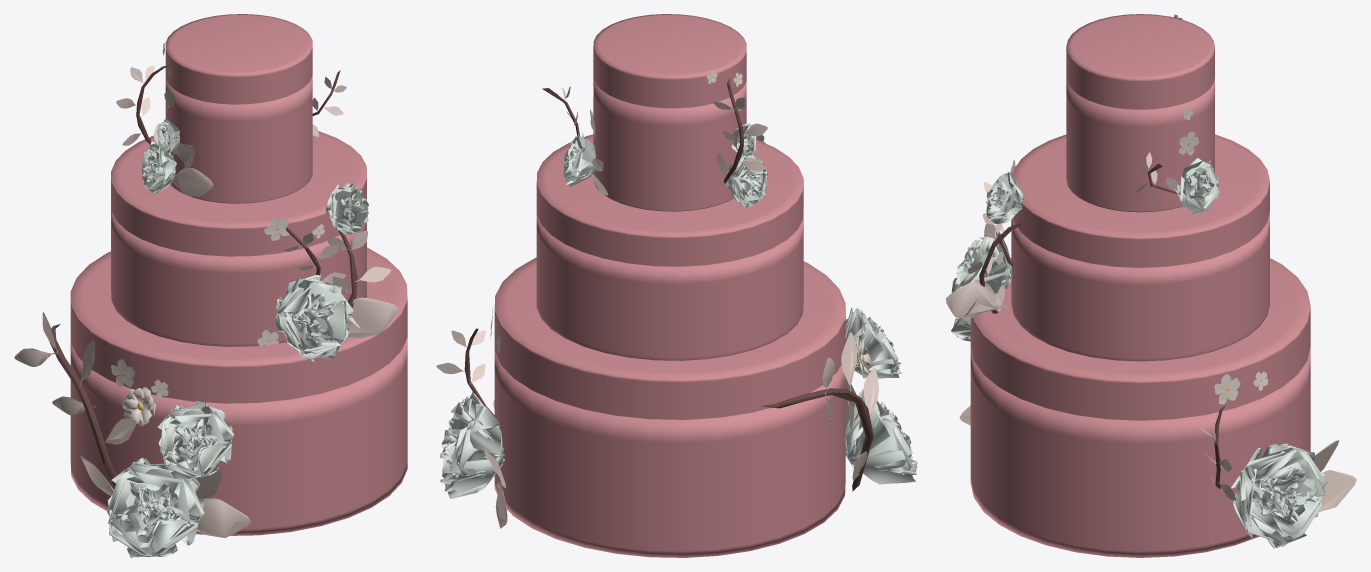
The model's file is 3-tier-blush-roses-none.glb.
The picture shows the model from 3 angles, left to right: view 1: azimuth 30°, elevation 25°; view 2: azimuth 150°, elevation 25°; view 3: azimuth 270°, elevation 25°; orthographic projection. The views are drawn at different scales.
Visible parts, largest first — view 1: Cylinder.022, Cylinder.014, Cylinder.021, grid.042, grid.044, grid.040, Plane.093, grid.043, Plane.087, Plane.091, Plane.095, grid.045 (+7 smaller); view 2: Cylinder.022, Cylinder.014, Cylinder.021, grid.029, grid.042, Plane.093, grid.040, grid.045, Plane.092, grid.047, Plane.084; view 3: Cylinder.022, Cylinder.014, Cylinder.021, grid.029, grid.044, grid.047, Plane.087, grid.043, Plane.095, Plane.082, Plane.084, Plane.078 (+1 smaller).
Boxes of the visible parts, x1,y1,x2,y2 form: Cylinder.022: [70, 247, 407, 535]; Cylinder.014: [111, 131, 366, 346]; Cylinder.021: [165, 14, 312, 203]; grid.042: [107, 457, 204, 557]; grid.044: [275, 275, 353, 362]; grid.040: [157, 400, 234, 481]; Plane.093: [14, 312, 136, 495]; grid.043: [326, 182, 368, 236]; Plane.087: [347, 297, 398, 338]; Plane.091: [197, 498, 250, 537]; Plane.095: [327, 230, 390, 328]; grid.045: [141, 141, 176, 193]; Cylinder.022: [494, 257, 845, 557]; Cylinder.014: [536, 134, 803, 360]; Cylinder.021: [593, 14, 746, 211]; grid.029: [440, 392, 504, 498]; grid.042: [845, 388, 917, 484]; Plane.093: [761, 332, 878, 491]; grid.040: [845, 308, 901, 378]; grid.045: [726, 155, 767, 208]; Plane.092: [713, 78, 767, 183]; grid.047: [563, 135, 595, 186]; Plane.084: [436, 328, 494, 416]; Cylinder.022: [970, 258, 1310, 557]; Cylinder.014: [1011, 134, 1269, 361]; Cylinder.021: [1066, 14, 1214, 212]; grid.029: [1231, 443, 1327, 548]; grid.044: [951, 232, 1011, 293]; grid.047: [1174, 158, 1219, 214]; Plane.087: [946, 279, 1010, 318]; grid.043: [986, 172, 1024, 223]; Plane.095: [965, 222, 1021, 316]; Plane.082: [1318, 470, 1356, 511]; Plane.084: [1196, 405, 1236, 500]; Plane.078: [1135, 152, 1180, 207].
Size of the model in its own units: 5.28 by 5.83 by 4.9.
